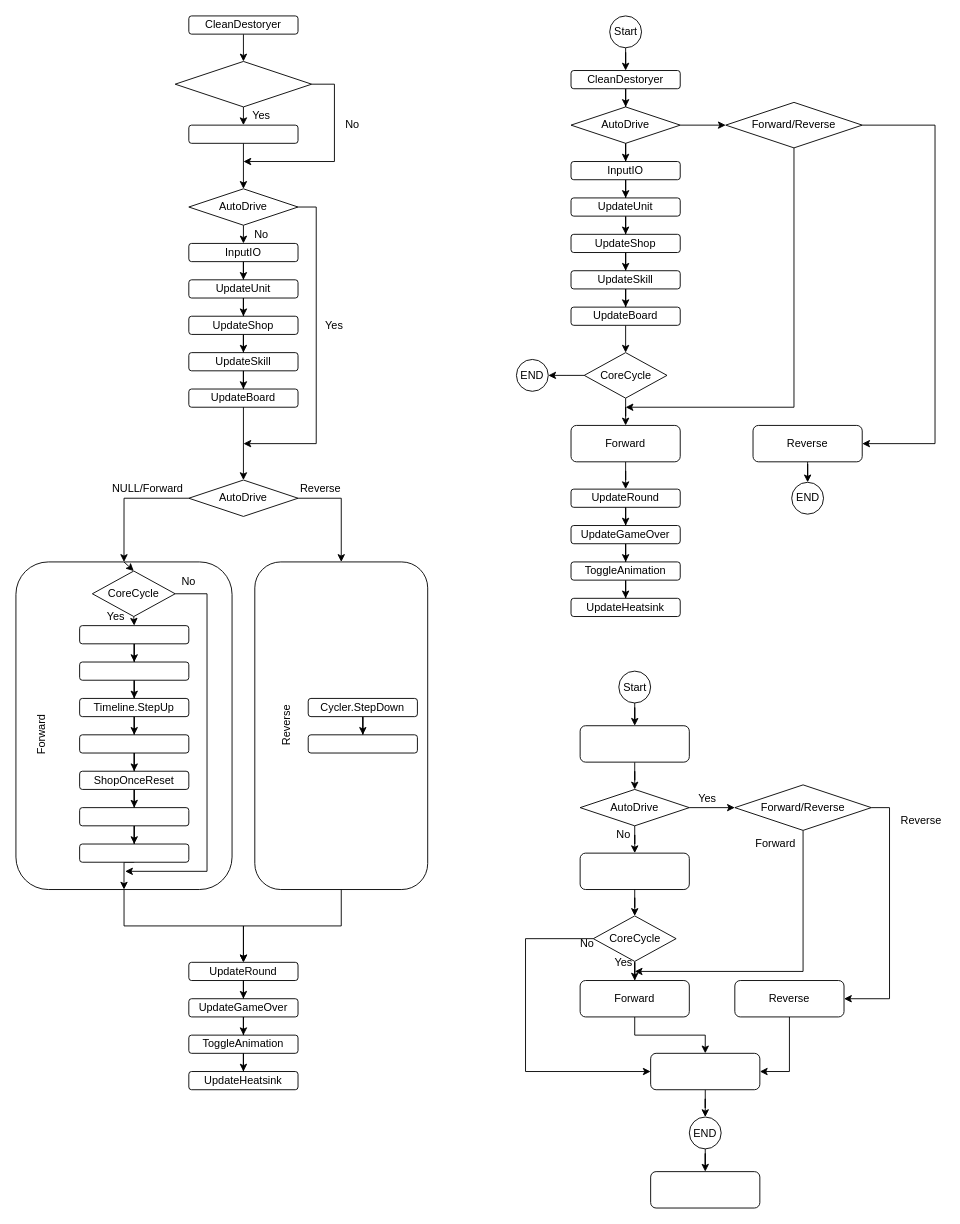
Image size: 960x1224. Some labels were removed from this diagram. Here are the shapes that lost their labels. From the top down, the box of each, then its label:
(174, 61, 312, 107): DestoryerEnabled
(188, 124, 298, 143): DrawDestoryer
(79, 625, 189, 644): CheckHeatSink
(79, 661, 189, 680): Cycler.StepUp
(79, 734, 189, 753): UpdateGameState
(307, 734, 417, 753): Timeline.StepDown
(579, 725, 689, 762): Upkeep
(79, 807, 189, 826): TriggerShopAnime
(79, 843, 189, 862): StepDestoryer
(579, 852, 689, 890): UserIO
(650, 1052, 760, 1090): CleanUp
(650, 1171, 760, 1208): CareerLogic
